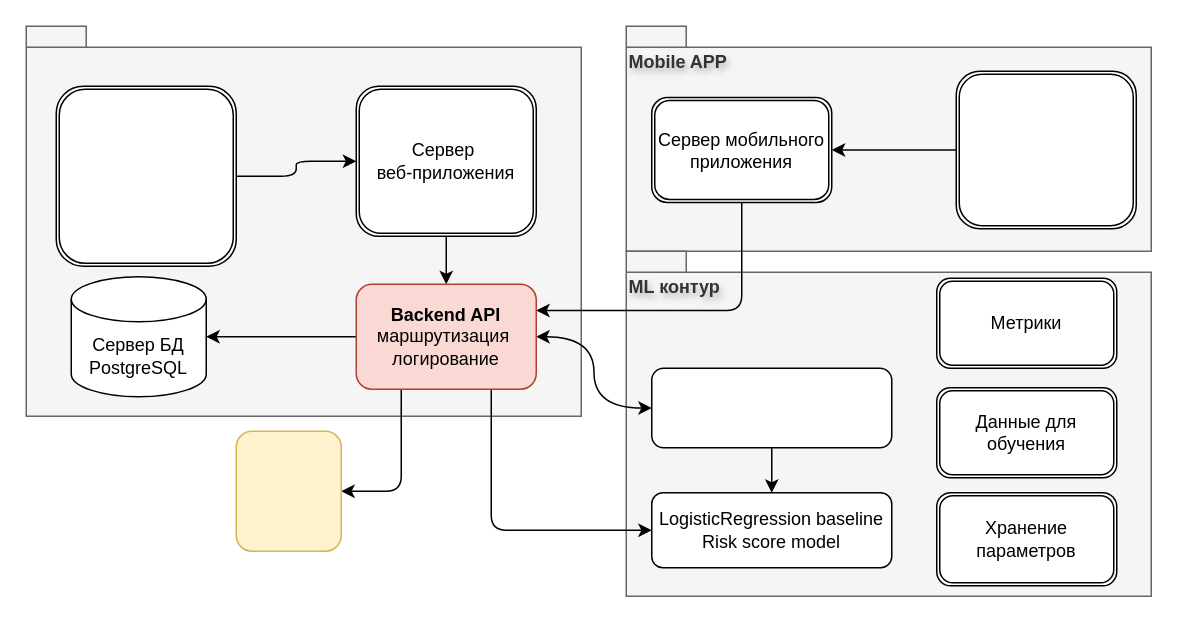
This 1178x623 diagram has some shape labels left out. The box of each missing label's shape, as (x1, y1, x2, y2) in pixels:
CORE: (25, 25, 581, 416)
LLM+RAG Модель: (650, 367, 892, 448)
Веб-приложение админка отчеты экспертный контур: (55, 85, 236, 266)
Внешний модуль оплаты: (235, 430, 341, 551)
Мобильное приложение анкета план чат: (955, 70, 1136, 229)
